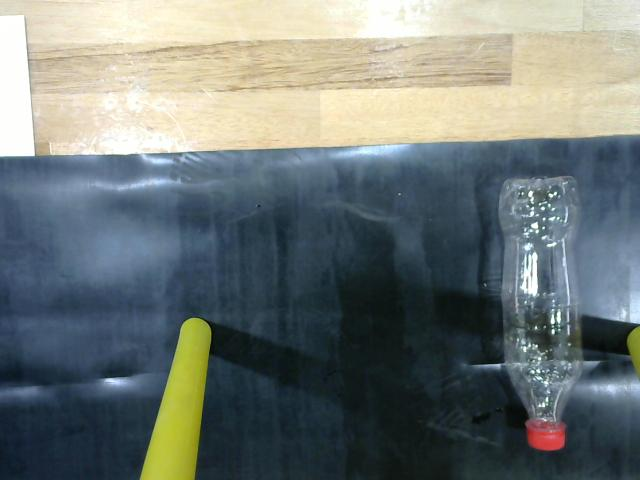bottle: (482, 154, 592, 456)
